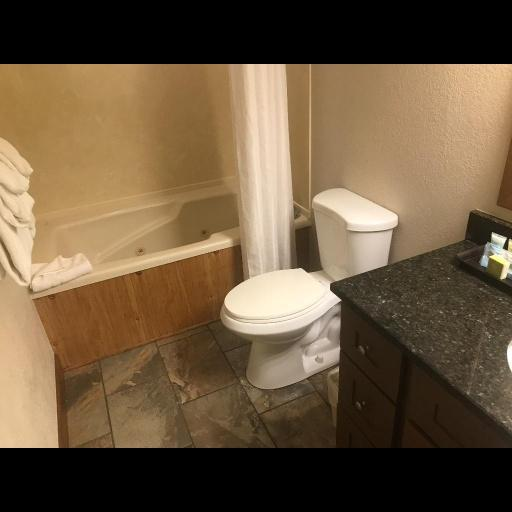clean_bathtub: (28, 165, 311, 372)
clean_floor: (62, 321, 338, 450)
